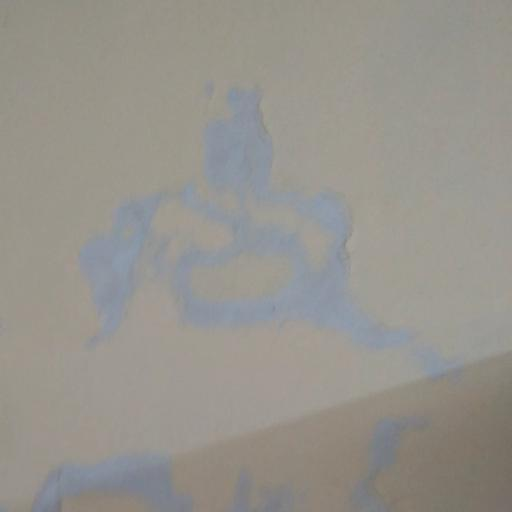peeling: (60, 66, 474, 392), (19, 407, 438, 512)
